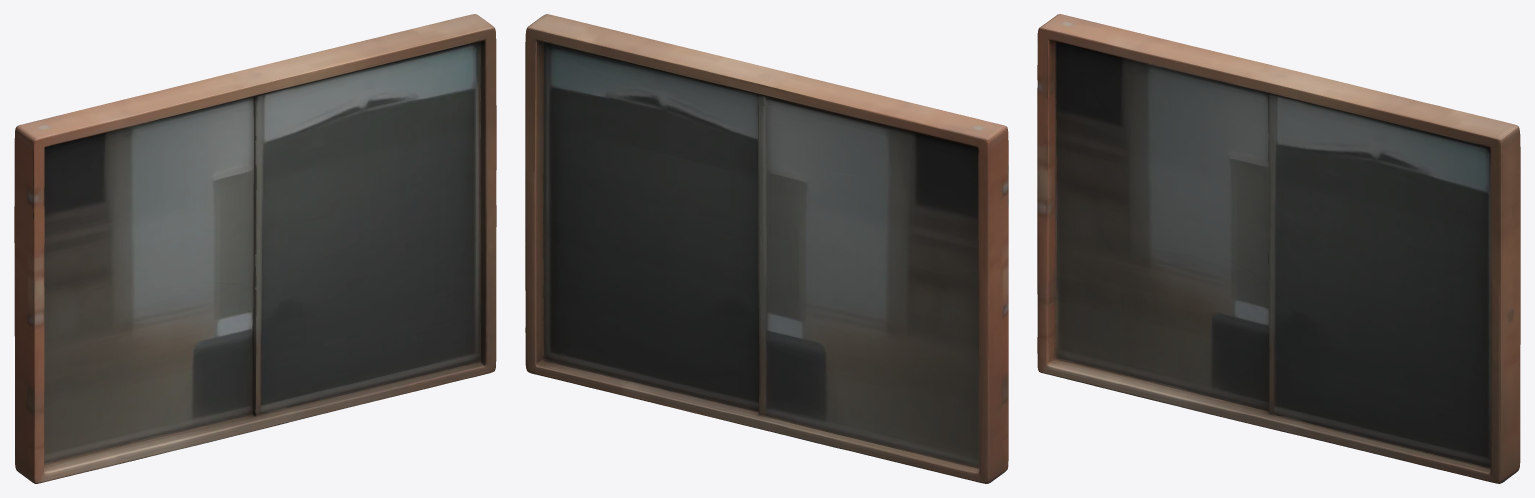
The model's file is window.glb.
3 renders of one model, left to right at view 1: azimuth 30°, elevation 25°; view 2: azimuth 150°, elevation 25°; view 3: azimuth 330°, elevation 25°, orthographic.
Parts seen in each view (by area): view 1: geometry_0; view 2: geometry_0; view 3: geometry_0.
Boxes of the visible parts, x1,y1,x2,y2 form: geometry_0: [14, 14, 496, 483]; geometry_0: [525, 14, 1008, 483]; geometry_0: [1037, 14, 1520, 483].
Bounding box in the file's own units: 1 × 0.7128 × 0.0782.
1 material, 1 textured.
